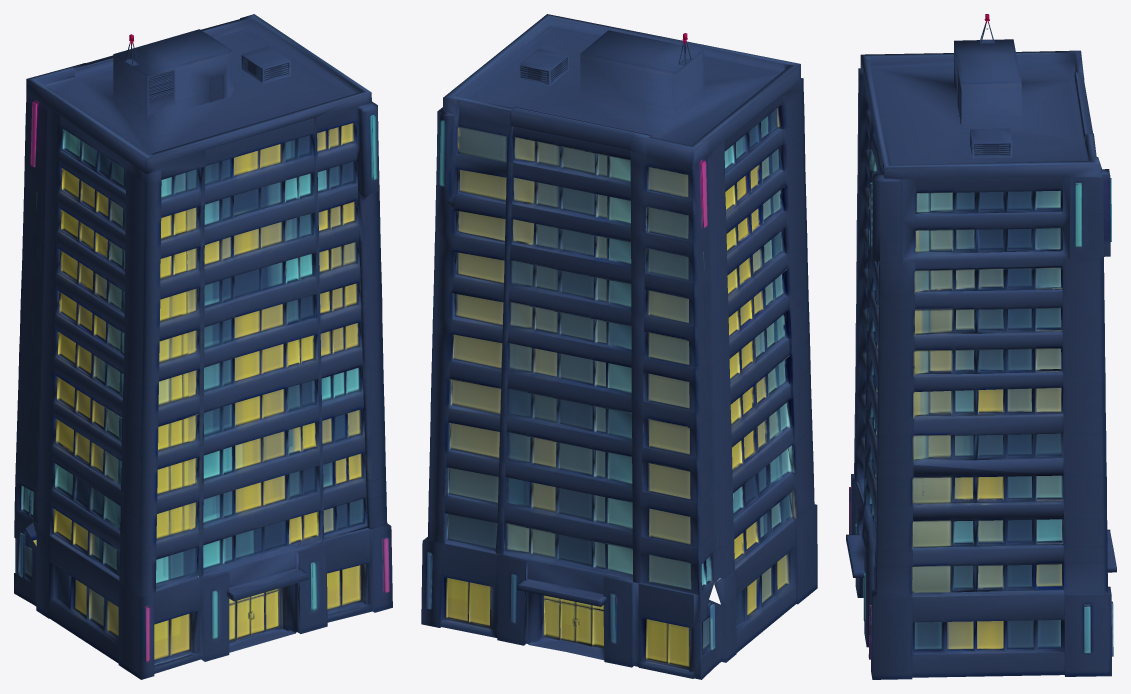
File: c_office.glb
3 renders of one model, left to right at view 1: azimuth 30°, elevation 25°; view 2: azimuth 150°, elevation 25°; view 3: azimuth 270°, elevation 25°, orthographic. The views are drawn at different scales.
Parts seen in each view (by area): view 1: tripo_node_9364a15e-6593-4f5e-8982-6320fb6b6cd2; view 2: tripo_node_9364a15e-6593-4f5e-8982-6320fb6b6cd2; view 3: tripo_node_9364a15e-6593-4f5e-8982-6320fb6b6cd2.
Boxes of the visible parts, x1,y1,x2,y2 form: tripo_node_9364a15e-6593-4f5e-8982-6320fb6b6cd2: (14, 14, 392, 679); tripo_node_9364a15e-6593-4f5e-8982-6320fb6b6cd2: (421, 14, 817, 679); tripo_node_9364a15e-6593-4f5e-8982-6320fb6b6cd2: (846, 14, 1116, 679).
Size of the model in its own units: 0.4907 by 0.9995 by 0.4312.
Materials: 1 (1 with a texture image).
